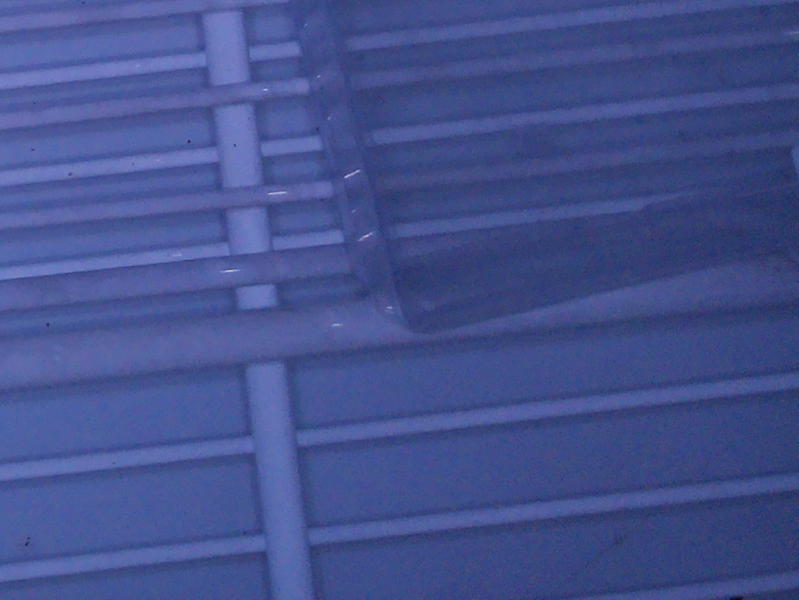plate: (285, 1, 799, 337)
